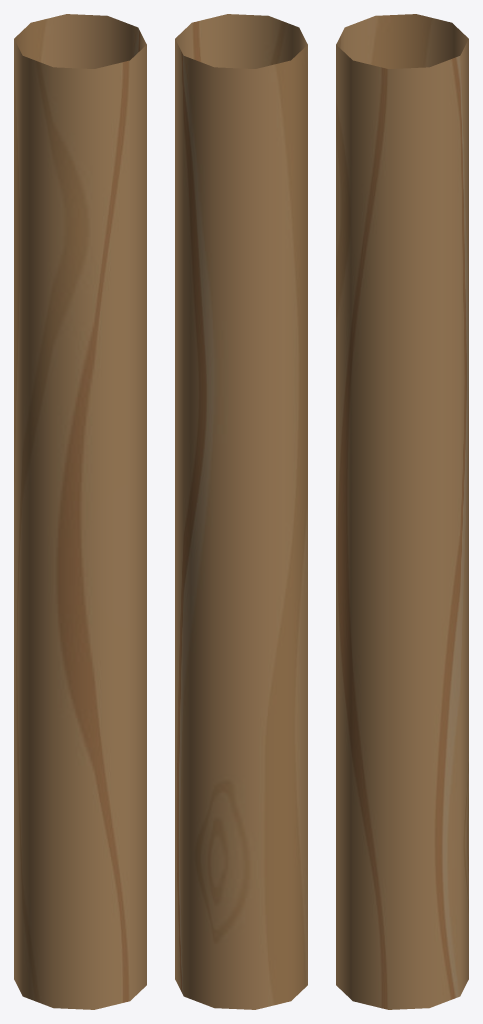
The model's file is wood_leg.fbx.
The picture shows the model from 3 angles, left to right: view 1: azimuth 30°, elevation 25°; view 2: azimuth 210°, elevation 25°; view 3: azimuth 330°, elevation 25°; orthographic projection.
Parts seen in each view (by area): view 1: wood_leg; view 2: wood_leg; view 3: wood_leg.
Boxes of the visible parts, x1=… form: wood_leg: x1=14, y1=14, x2=146, y2=1009; wood_leg: x1=175, y1=14, x2=307, y2=1009; wood_leg: x1=336, y1=14, x2=468, y2=1009.
Size of the model in its own units: 0.084 by 0.6538 by 0.0799.
